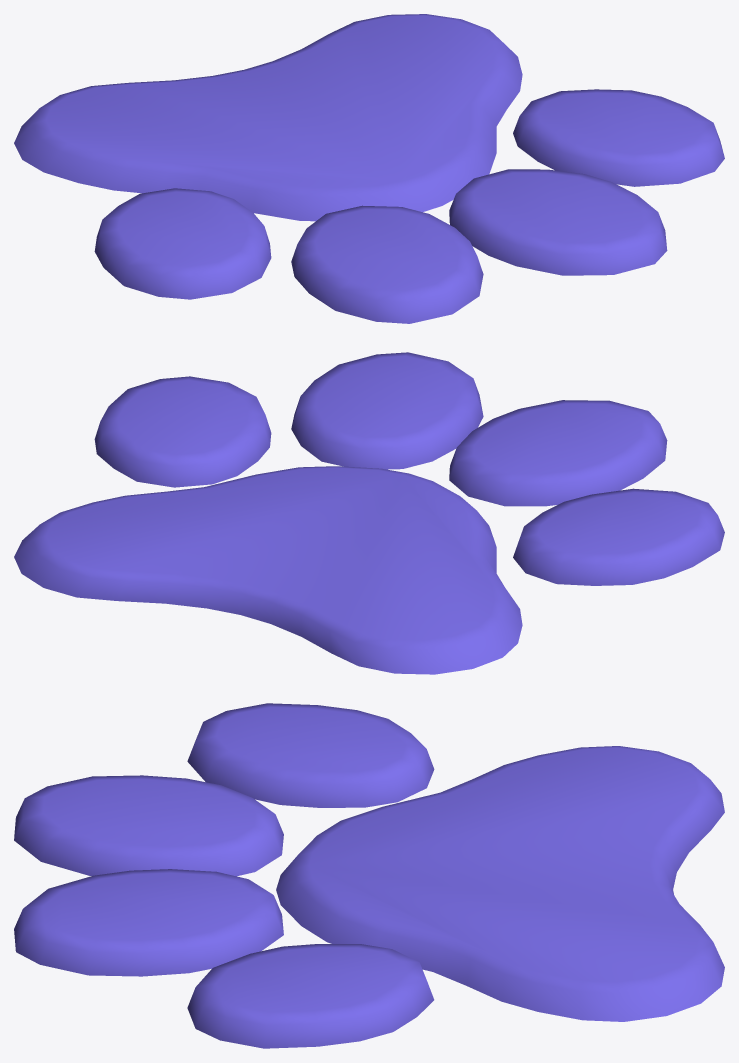
Rendered from CatPaw.fbx.
The picture shows the model from 3 angles, top to bottom: view 1: azimuth 30°, elevation 25°; view 2: azimuth 150°, elevation 25°; view 3: azimuth 270°, elevation 25°; orthographic projection. The views are drawn at different scales.
Parts seen in each view (by area): view 1: DoorFrame_Cat.001; view 2: DoorFrame_Cat.001; view 3: DoorFrame_Cat.001.
Boxes of the visible parts, left/top/right/bottom form: DoorFrame_Cat.001: left=14, top=14, right=724, bottom=323; DoorFrame_Cat.001: left=14, top=352, right=724, bottom=674; DoorFrame_Cat.001: left=14, top=703, right=724, bottom=1048.
Bounding box in the file's own units: 385 × 16.5 × 353.
